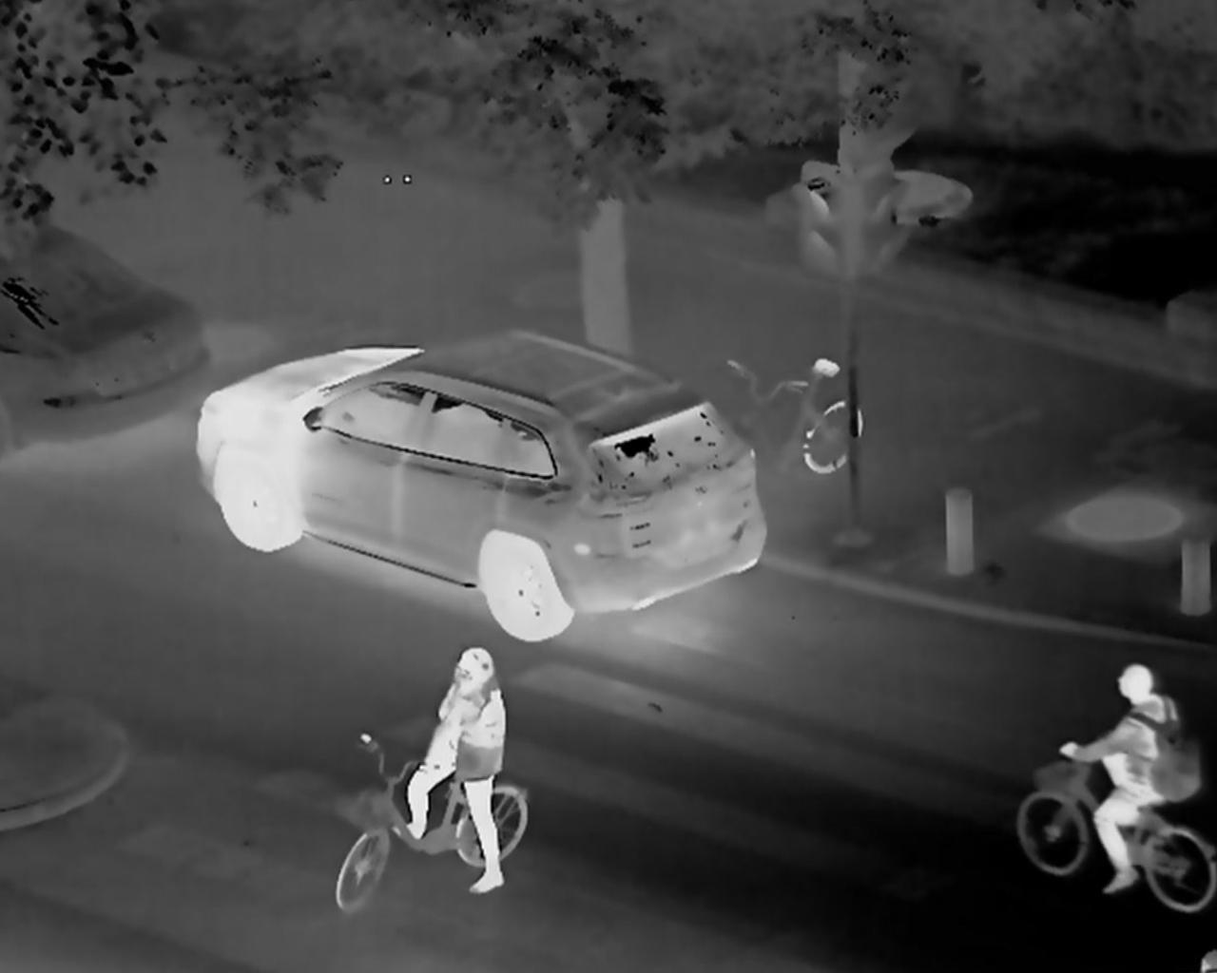person: (1060, 659, 1202, 896), (403, 647, 507, 896)
